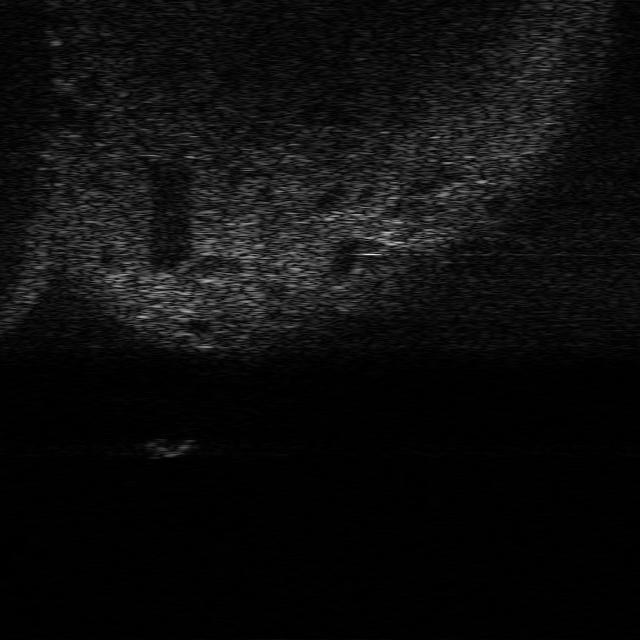cube: (146, 432, 195, 460)
